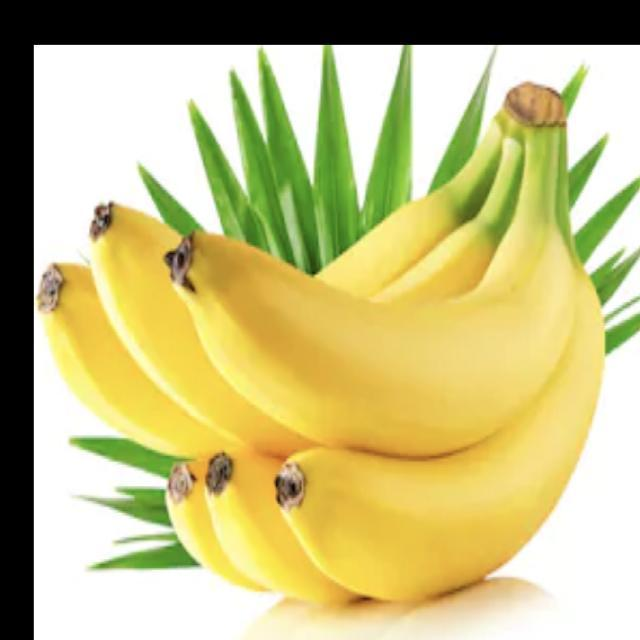Banana: (38, 68, 608, 607)
